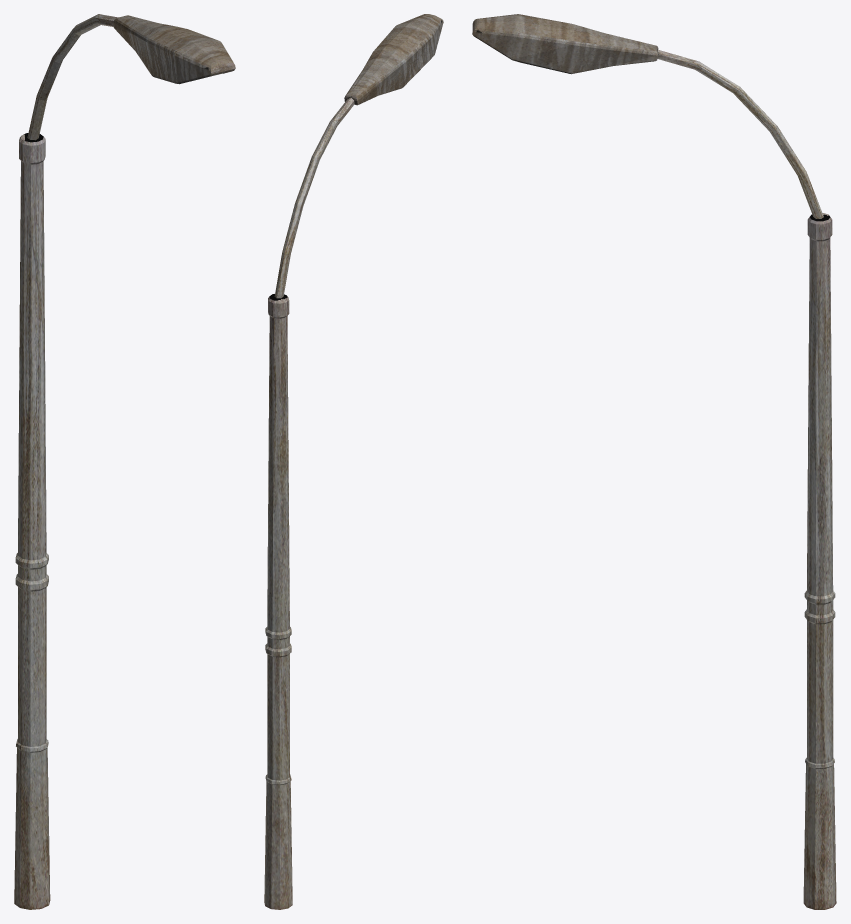
File: lamp.fbx
3 views of the same model, side by side, from view 1: azimuth 30°, elevation 25°; view 2: azimuth 150°, elevation 25°; view 3: azimuth 270°, elevation 25° (orthographic). The views are drawn at different scales.
Visible parts, largest first — view 1: lamp_Layer1; view 2: lamp_Layer1; view 3: lamp_Layer1.
Boxes of the visible parts, bbox=[...] form: lamp_Layer1: bbox=[14, 14, 235, 909]; lamp_Layer1: bbox=[264, 14, 443, 909]; lamp_Layer1: bbox=[472, 14, 836, 909].
Bounding box in the file's own units: 0.2729 × 5.4 × 2.02.
Materials: 1 (1 with a texture image).
